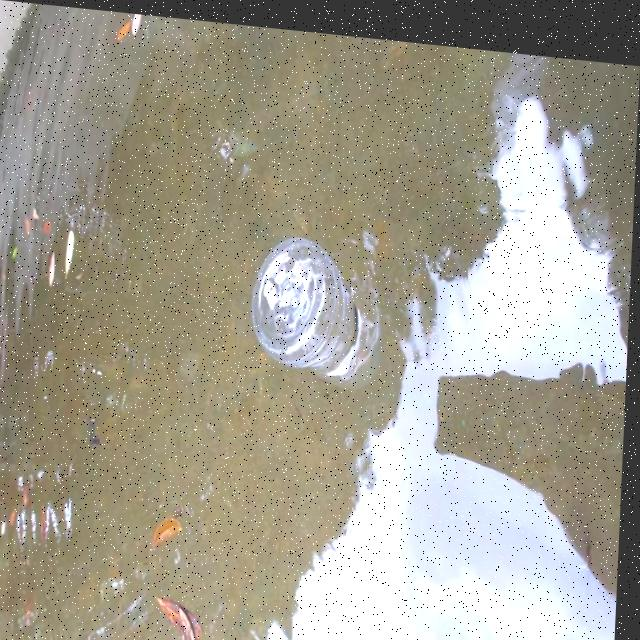leaf: (162, 578, 214, 640), (148, 507, 193, 555)
waterbottle: (247, 228, 378, 374)
